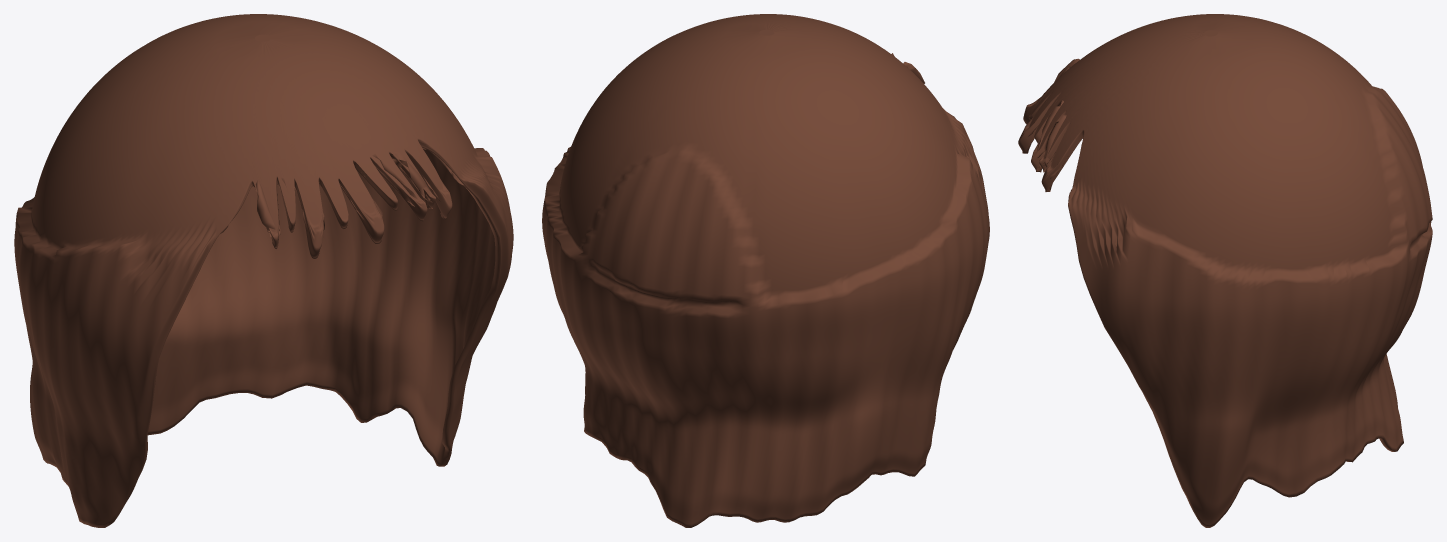
File: side-sweep-cap.glb
3 views of the same model, side by side, from view 1: azimuth 30°, elevation 25°; view 2: azimuth 150°, elevation 25°; view 3: azimuth 270°, elevation 25° (orthographic). The views are drawn at different scales.
Parts seen in each view (by area): view 1: Hair / layered lob; view 2: Hair / layered lob; view 3: Hair / layered lob.
Part boxes in pixels (x1,y1,x2,y2): Hair / layered lob: [14, 14, 513, 527]; Hair / layered lob: [542, 14, 989, 527]; Hair / layered lob: [1018, 14, 1432, 527].
Size of the model in its own units: 0.8388 by 0.8705 by 0.7816.
